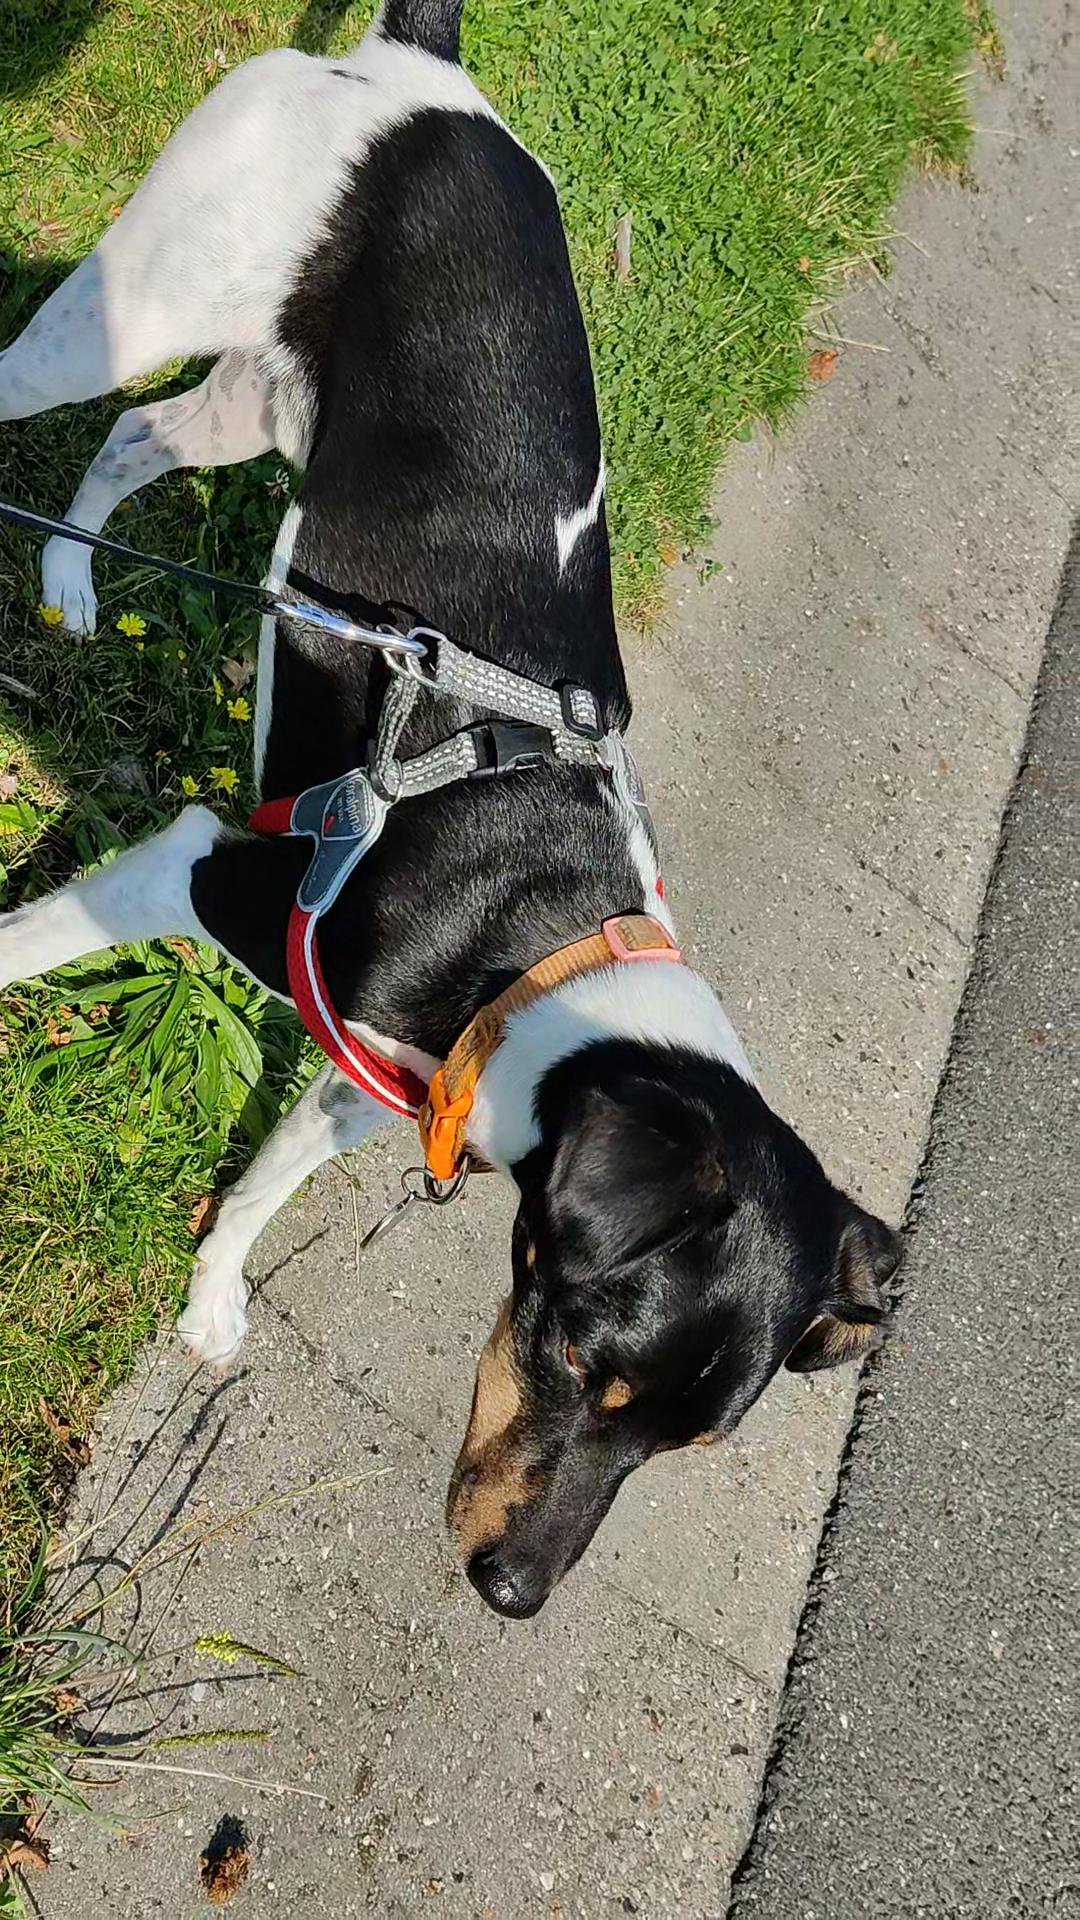Dog: (0, 0, 911, 1621)
